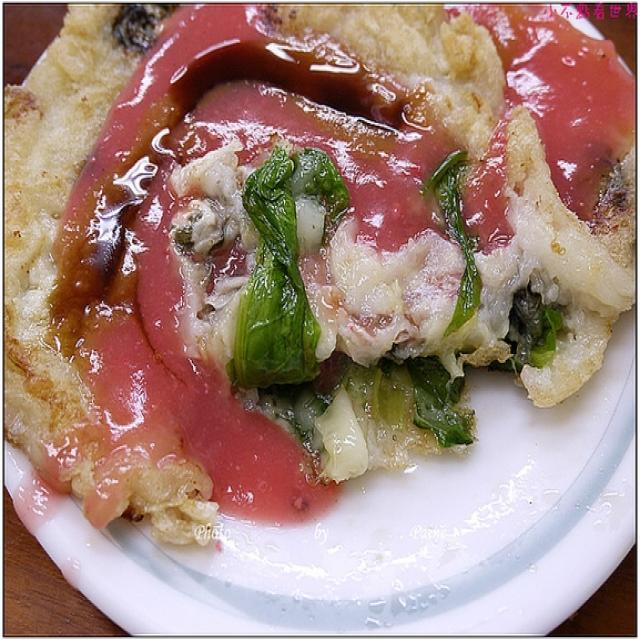熟制海鲜: (10, 15, 628, 591)
